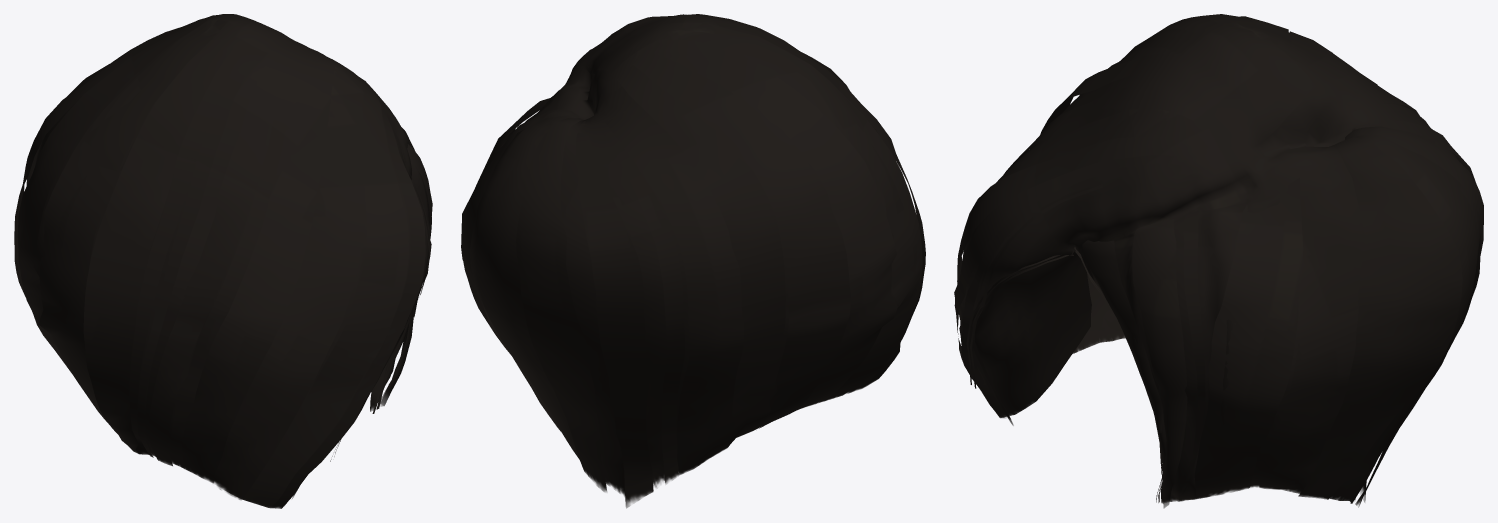
File: hair_pixie.glb
3 renders of one model, left to right at view 1: azimuth 30°, elevation 25°; view 2: azimuth 150°, elevation 25°; view 3: azimuth 270°, elevation 25°, orthographic. The views are drawn at different scales.
Parts seen in each view (by area): view 1: hair_pixie; view 2: hair_pixie; view 3: hair_pixie.
Part boxes in pixels (box(x1,y1,x2,y2)): hair_pixie: box(14, 14, 432, 508); hair_pixie: box(461, 14, 925, 508); hair_pixie: box(954, 14, 1483, 508).
Bounding box in the file's own units: 0.1991 × 0.2115 × 0.2148.
Materials: 1 (1 with a texture image).
